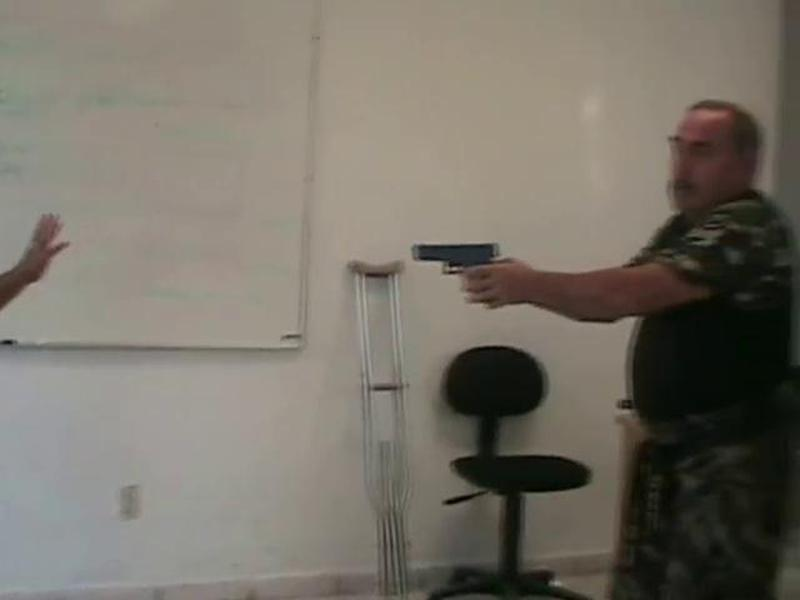Pistola: (396, 221, 514, 316)
